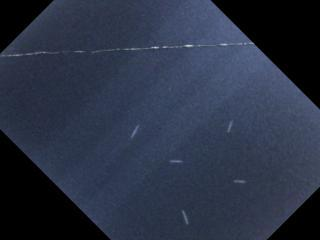crack: (0, 40, 255, 58)
scratch: (231, 173, 250, 189), (128, 121, 141, 144), (224, 115, 236, 137), (180, 207, 192, 229), (167, 155, 185, 167)
